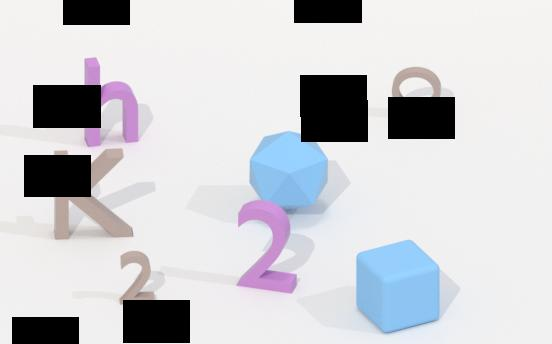2: (237, 199, 300, 295), (112, 246, 162, 309)
dagiac: (248, 123, 331, 214)
h: (76, 46, 145, 155)
hop: (348, 237, 453, 341)
k: (43, 141, 140, 244)
q: (390, 63, 451, 129)
